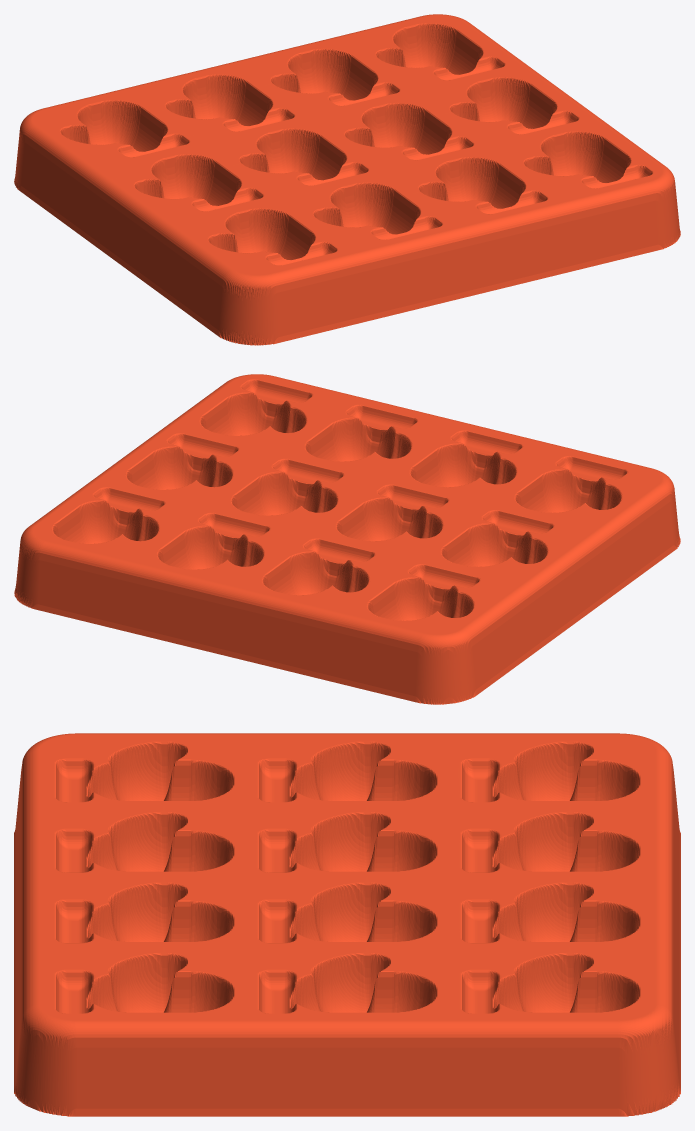
Rendered from mold.glb.
3 views of the same model, one above another, from view 1: azimuth 30°, elevation 25°; view 2: azimuth 150°, elevation 25°; view 3: azimuth 270°, elevation 25° (orthographic). The views are drawn at different scales.
Visible parts, largest first — view 1: geometry_0; view 2: geometry_0; view 3: geometry_0.
Boxes of the visible parts, x1,y1,x2,y2 form: geometry_0: (14, 14, 680, 345); geometry_0: (14, 374, 680, 704); geometry_0: (14, 733, 680, 1116).
Bounding box in the file's own units: 0.1047 × 0.0136 × 0.0963.
